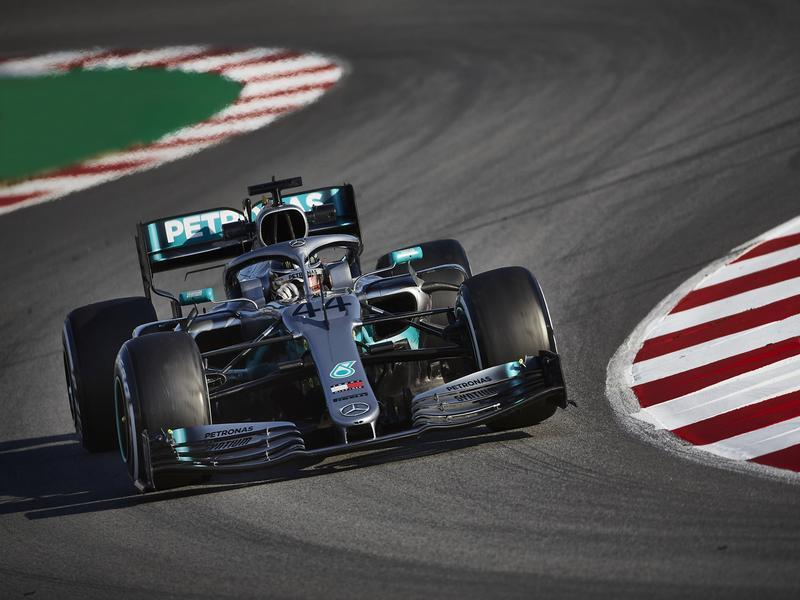f1: (70, 160, 591, 487)
